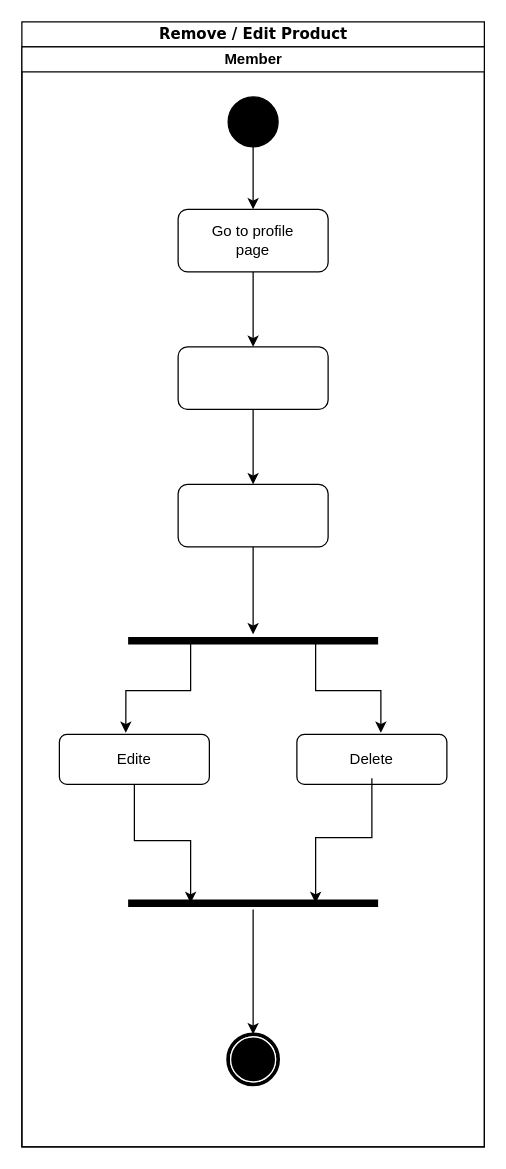
Some shapes in this 506 by 1169 pixel diagram are drawn without their labels. Each missing label, with the centre of its shape:
"Click on Dashboard" goes at point (252, 377).
"Select the Product" goes at point (252, 515).
